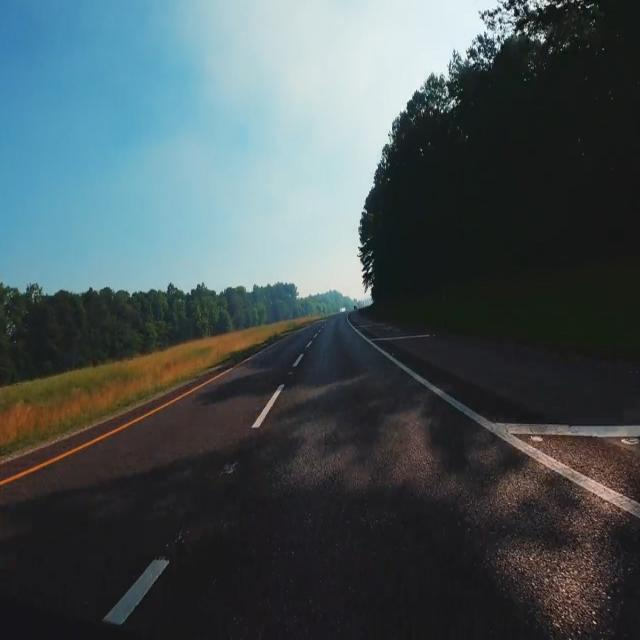asphalt: (0, 316, 640, 639)
grass: (0, 316, 322, 449)
